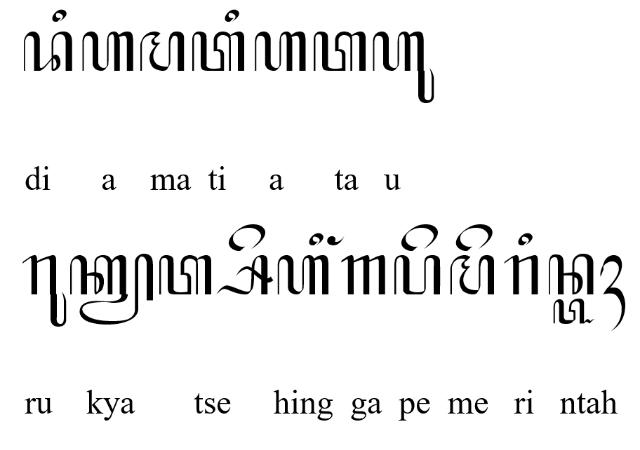_h1: (599, 252, 627, 332)
_s: (215, 254, 273, 296)
_t: (552, 300, 596, 324)
d: (23, 30, 72, 72)
e: (455, 224, 493, 252), (227, 223, 266, 250), (402, 223, 438, 251)
g: (340, 254, 386, 296)
h: (81, 30, 135, 72), (254, 29, 306, 72), (278, 255, 330, 297)
hu: (372, 32, 436, 104)
i: (223, 8, 240, 22), (52, 8, 66, 24), (308, 232, 324, 246), (517, 232, 533, 246)
ky: (68, 254, 154, 326)
m: (140, 31, 184, 73), (450, 254, 494, 296)
n: (548, 254, 596, 296)
ng: (326, 234, 344, 246)
p: (394, 254, 442, 296)
r: (503, 255, 541, 296)
ru: (22, 254, 66, 328)
t: (190, 30, 246, 72), (158, 255, 212, 296), (313, 31, 367, 71)
